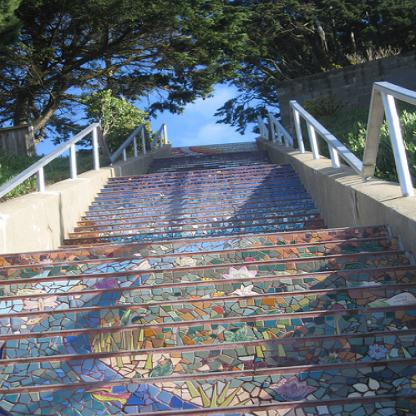stairs: (70, 237, 405, 416)
